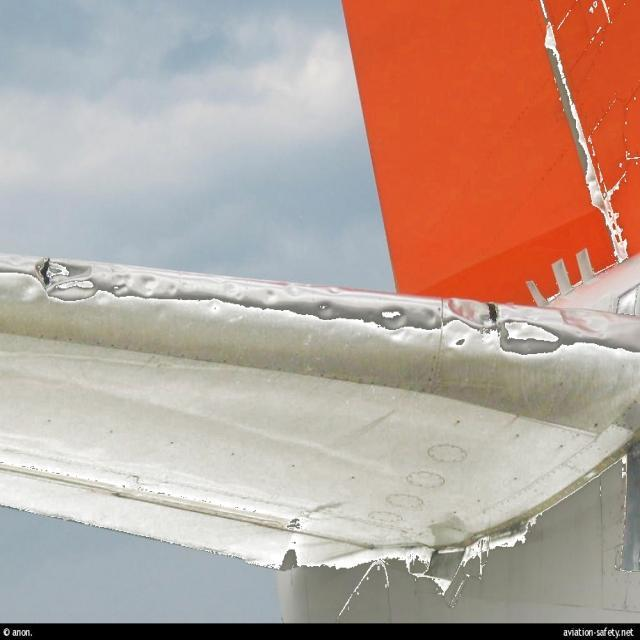dent: (450, 302, 619, 348), (36, 262, 98, 299)
